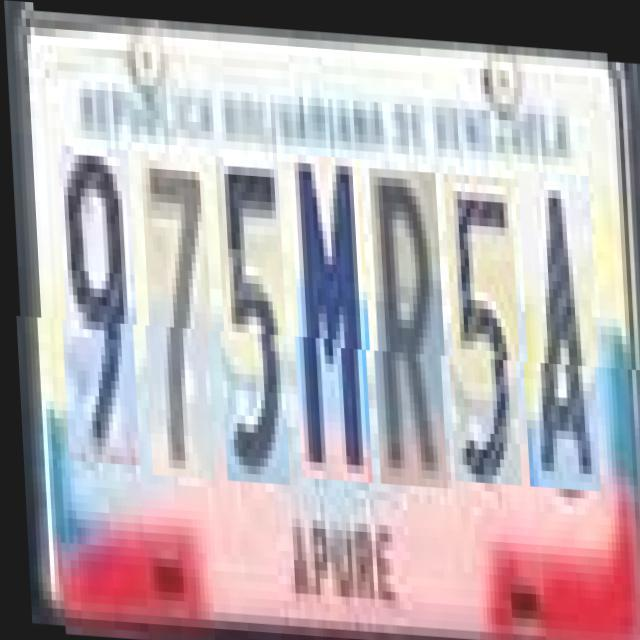5: (213, 154, 290, 482), (442, 167, 521, 478)
7: (138, 149, 214, 477)
9: (55, 144, 138, 464)
A: (517, 163, 600, 483)
M: (288, 150, 372, 478)
R: (368, 162, 447, 482)
